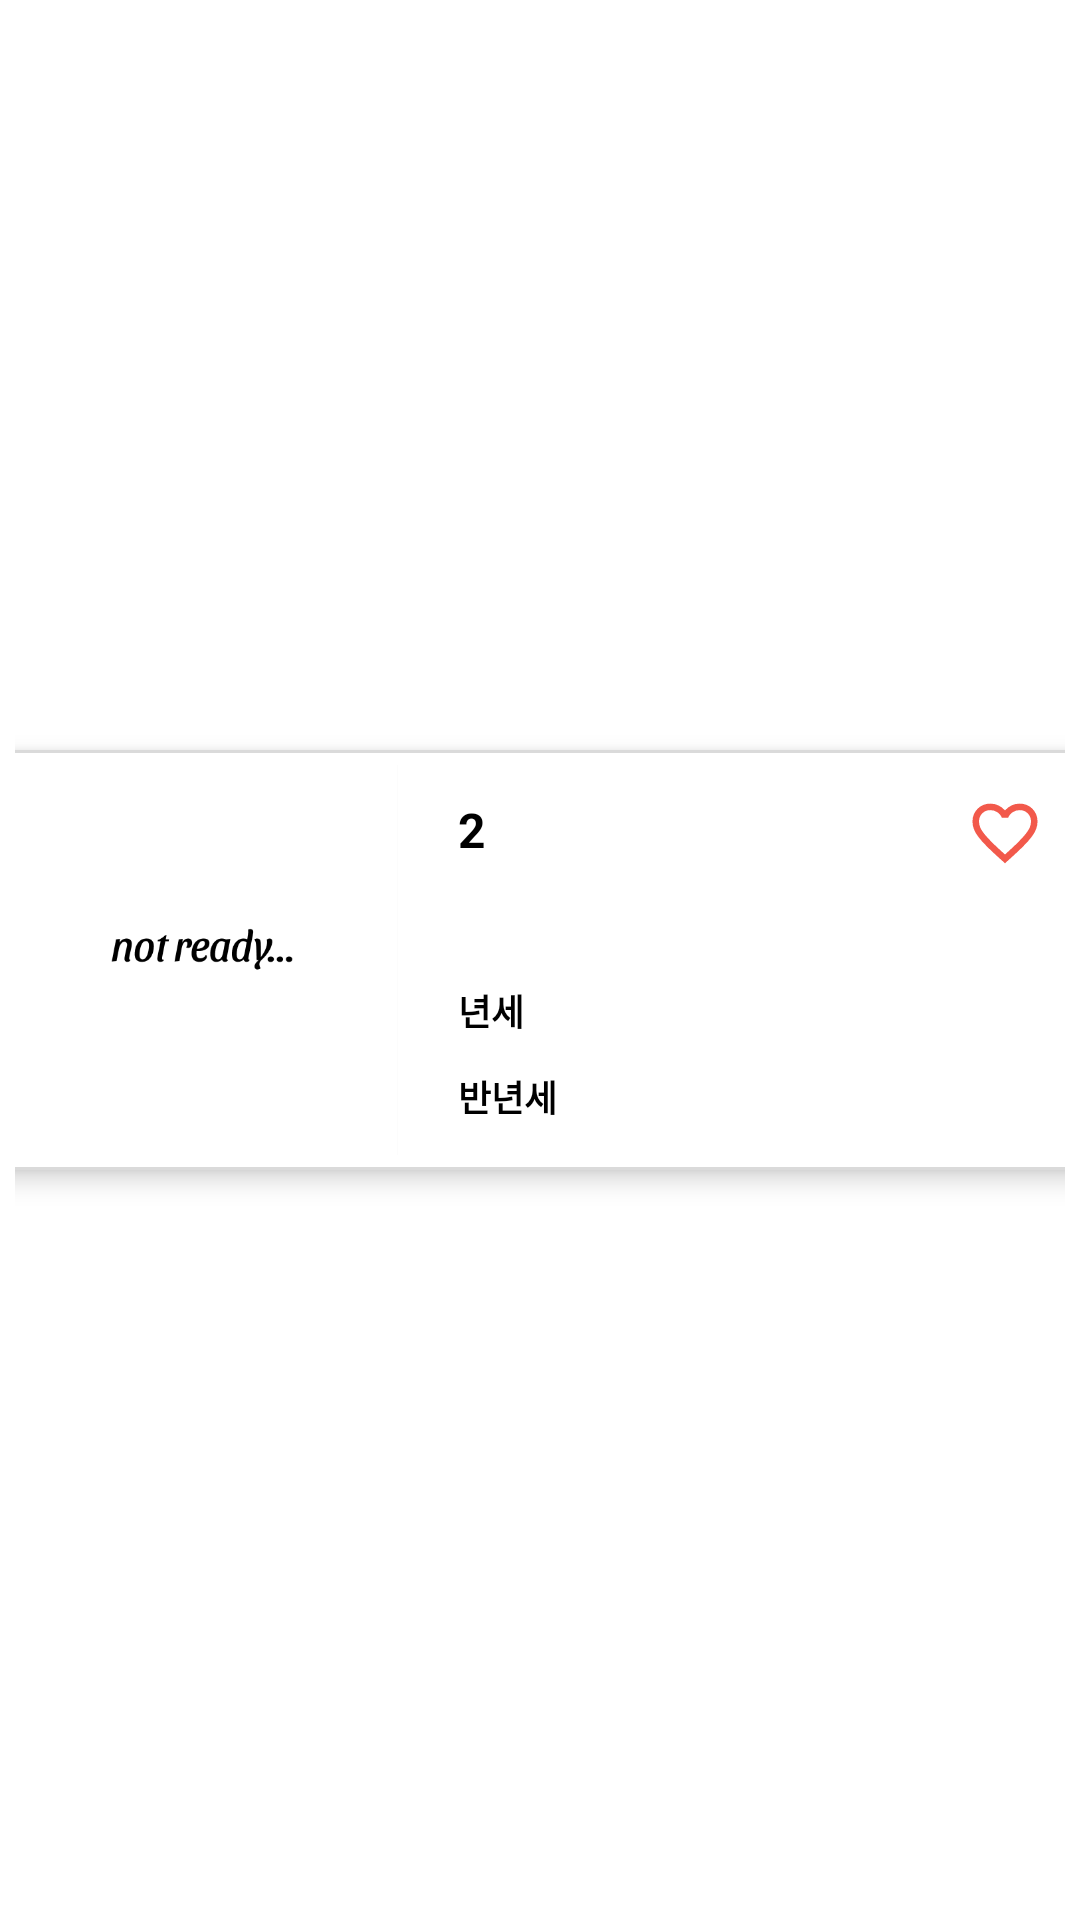

Where icons sit on this 1080*1920 app screen, as BBox(x1, y1, x2, y2):
favorite: BBox(972, 803, 1038, 863)
